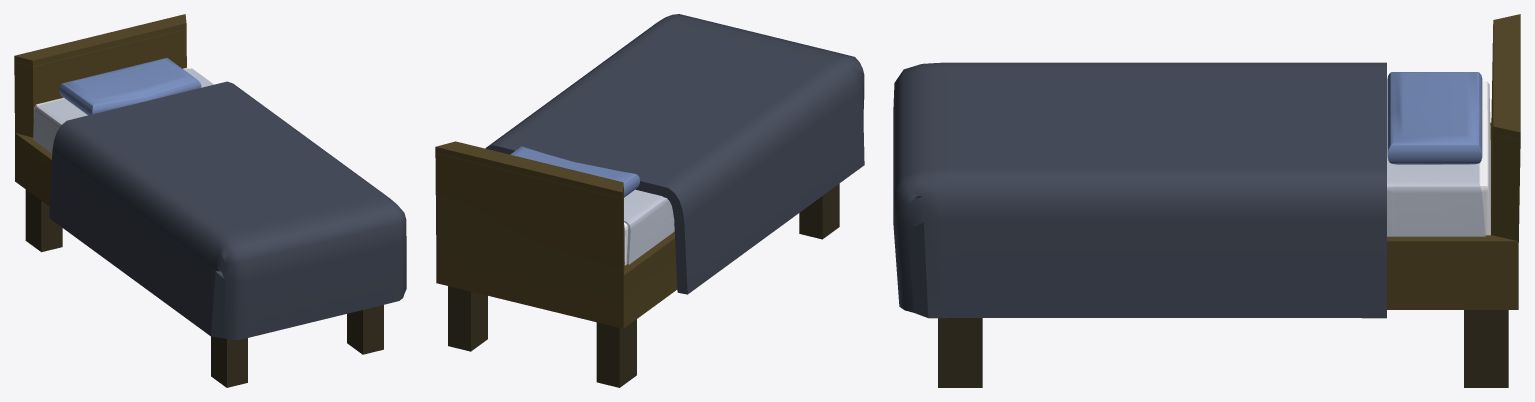
Rendered from bed.fbx.
3 renders of one model, left to right at view 1: azimuth 30°, elevation 25°; view 2: azimuth 150°, elevation 25°; view 3: azimuth 270°, elevation 25°, orthographic. The views are drawn at different scales.
Visible parts, largest first — view 1: bed; view 2: bed; view 3: bed.
Part boxes in pixels (<box>): bed: <box>14,14,406,387</box>; bed: <box>435,14,864,387</box>; bed: <box>893,14,1520,387</box>.
Size of the model in its own units: 4.34 by 3.89 by 8.5.
Materials: 1 (1 with a texture image).
